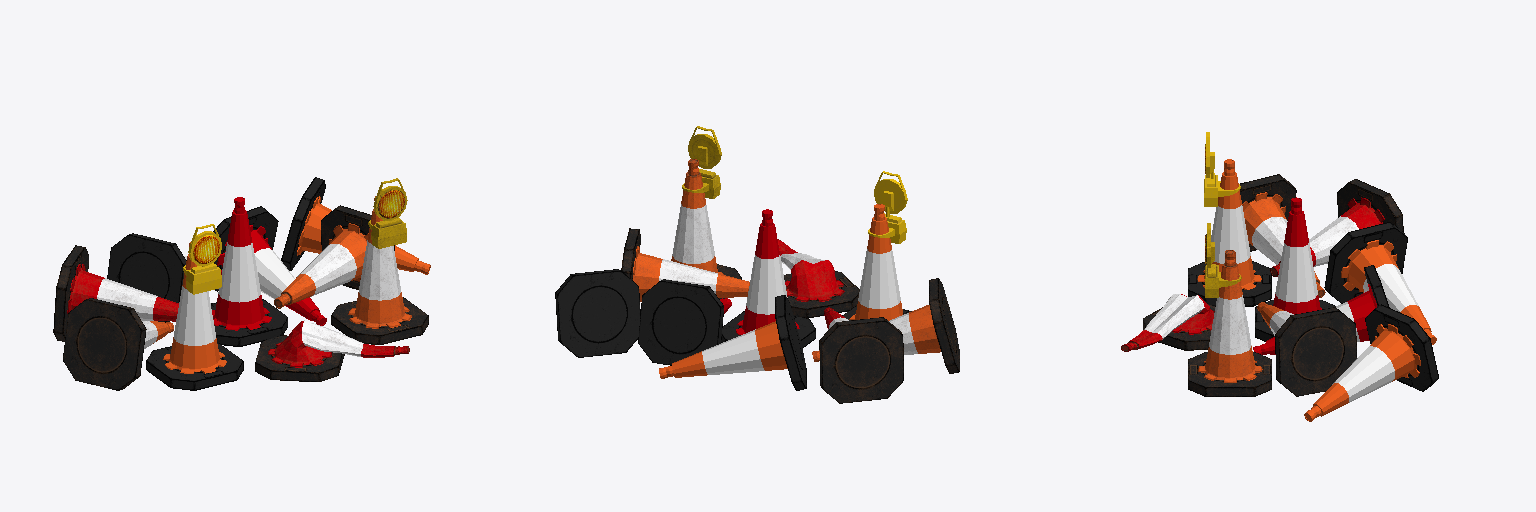
The picture shows the model from 3 angles: view 1: azimuth 30°, elevation 25°; view 2: azimuth 150°, elevation 25°; view 3: azimuth 270°, elevation 25°; orthographic projection.
Parts seen in each view (by area): view 1: Traffic_Cone_Orange_Dirt_Traffic_Cone_Orange_Dirt_0, Traffic_Cone_Orange_Clean_Traffic_Cone_Orange_Clean_0, Traffic_Cone_Red__Dirt_Traffic_Cone_Red__Dirt_0, Traffic_Cone_Red__Clean_Traffic_Cone_Red__Clean_0, Traffic_Cone_Lights_Traffic_Cone_Lights_0, Traffic_Cone_Dirt_Lights_Traffic_Cone_Dirt_Lights_0; view 2: Traffic_Cone_Orange_Clean_Traffic_Cone_Orange_Clean_0, Traffic_Cone_Red__Dirt_Traffic_Cone_Red__Dirt_0, Traffic_Cone_Red__Clean_Traffic_Cone_Red__Clean_0, Traffic_Cone_Orange_Dirt_Traffic_Cone_Orange_Dirt_0, Traffic_Cone_Lights_Traffic_Cone_Lights_0, Traffic_Cone_Dirt_Lights_Traffic_Cone_Dirt_Lights_0; view 3: Traffic_Cone_Orange_Clean_Traffic_Cone_Orange_Clean_0, Traffic_Cone_Orange_Dirt_Traffic_Cone_Orange_Dirt_0, Traffic_Cone_Red__Dirt_Traffic_Cone_Red__Dirt_0, Traffic_Cone_Red__Clean_Traffic_Cone_Red__Clean_0, Traffic_Cone_Dirt_Lights_Traffic_Cone_Dirt_Lights_0, Traffic_Cone_Lights_Traffic_Cone_Lights_0.
Part boxes in pixels (x1,y1,x2,y2): Traffic_Cone_Orange_Dirt_Traffic_Cone_Orange_Dirt_0: (63, 196, 428, 390); Traffic_Cone_Orange_Clean_Traffic_Cone_Orange_Clean_0: (107, 177, 430, 390); Traffic_Cone_Red__Dirt_Traffic_Cone_Red__Dirt_0: (53, 245, 409, 381); Traffic_Cone_Red__Clean_Traffic_Cone_Red__Clean_0: (211, 197, 326, 346); Traffic_Cone_Lights_Traffic_Cone_Lights_0: (183, 224, 221, 294); Traffic_Cone_Dirt_Lights_Traffic_Cone_Dirt_Lights_0: (368, 178, 407, 248); Traffic_Cone_Orange_Clean_Traffic_Cone_Orange_Clean_0: (555, 204, 911, 390); Traffic_Cone_Red__Dirt_Traffic_Cone_Red__Dirt_0: (778, 239, 903, 403); Traffic_Cone_Red__Clean_Traffic_Cone_Red__Clean_0: (638, 209, 815, 365); Traffic_Cone_Orange_Dirt_Traffic_Cone_Orange_Dirt_0: (621, 159, 959, 373); Traffic_Cone_Lights_Traffic_Cone_Lights_0: (868, 171, 907, 243); Traffic_Cone_Dirt_Lights_Traffic_Cone_Dirt_Lights_0: (682, 126, 721, 198); Traffic_Cone_Orange_Clean_Traffic_Cone_Orange_Clean_0: (1188, 159, 1438, 421); Traffic_Cone_Orange_Dirt_Traffic_Cone_Orange_Dirt_0: (1188, 174, 1356, 396); Traffic_Cone_Red__Dirt_Traffic_Cone_Red__Dirt_0: (1121, 179, 1403, 351); Traffic_Cone_Red__Clean_Traffic_Cone_Red__Clean_0: (1253, 197, 1389, 354); Traffic_Cone_Dirt_Lights_Traffic_Cone_Dirt_Lights_0: (1205, 223, 1241, 297); Traffic_Cone_Lights_Traffic_Cone_Lights_0: (1204, 132, 1240, 206).
Size of the model in its own units: 4.98 by 1.93 by 3.6.
Materials: 6 (6 with a texture image).